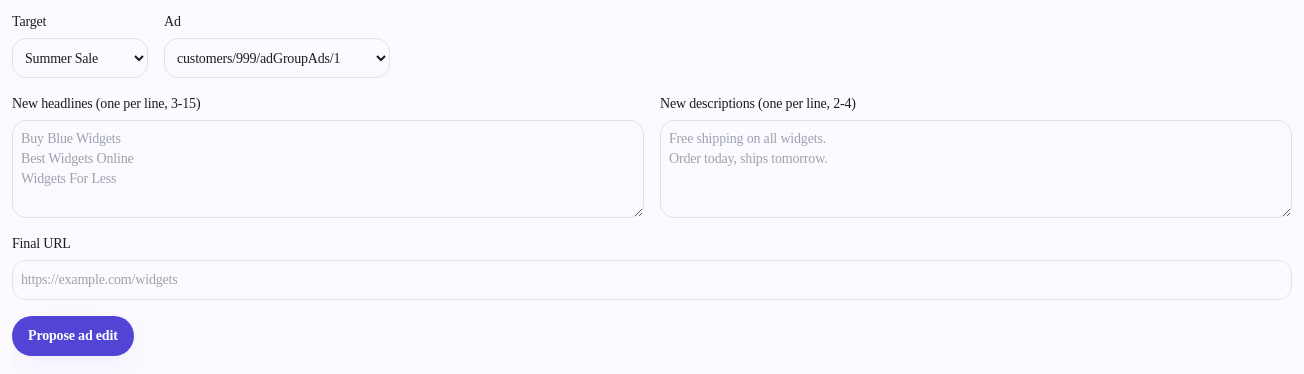
Scenario: AutomationProposeAdEditForm › shows an inline error and does not submit when headlines/descriptions/final URL are empty
This screenshot has width=1304, height=374.
Click the button "Propose ad edit".
click(73, 336)  # box [12, 316, 134, 356]
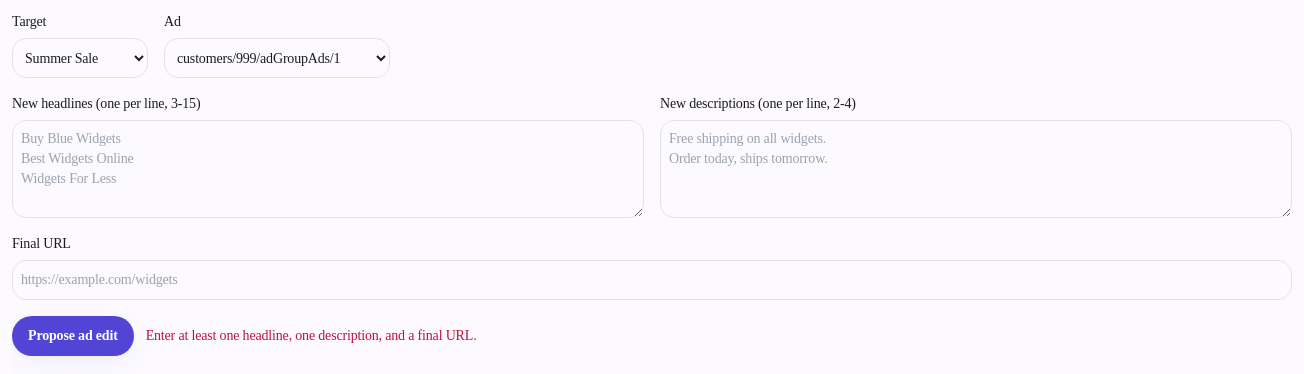
Expected: the message reads "Enter at least one headline, one description, and a final URL.", [146, 328, 476, 343]
